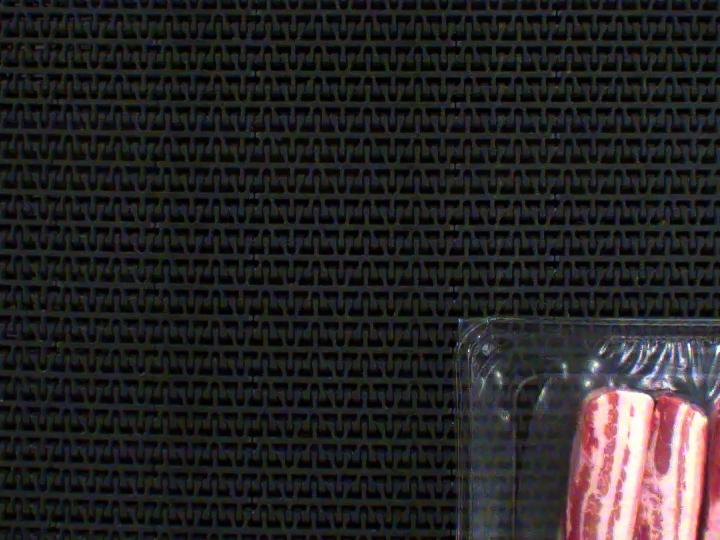unsealed: (478, 317, 720, 540)
